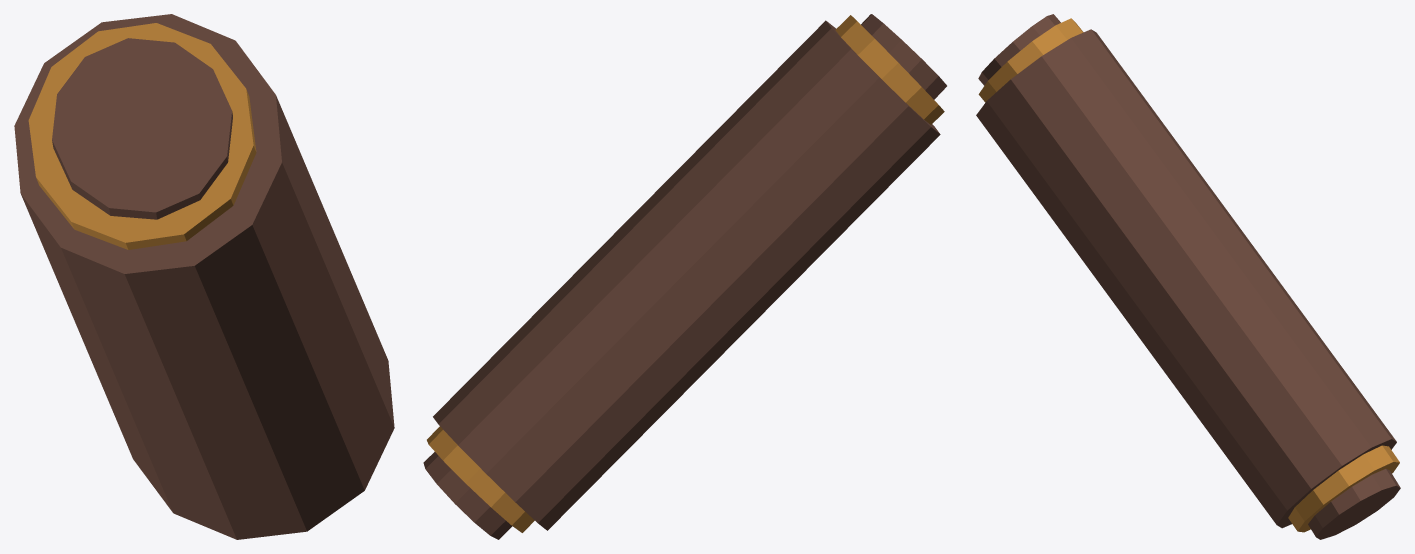
3 renders of one model, left to right at view 1: azimuth 30°, elevation 25°; view 2: azimuth 150°, elevation 25°; view 3: azimuth 270°, elevation 25°, orthographic. The views are drawn at different scales.
Visible parts, largest first — view 1: node_MeshObject267863936-PolyPaper20; view 2: node_MeshObject267863936-PolyPaper20; view 3: node_MeshObject267863936-PolyPaper20.
Boxes of the visible parts, x1,y1,x2,y2 form: node_MeshObject267863936-PolyPaper20: (14,14,394,539); node_MeshObject267863936-PolyPaper20: (423,14,946,539); node_MeshObject267863936-PolyPaper20: (976,14,1400,539).
Size of the model in its own units: 0.3022 by 0.3696 by 0.3419.
